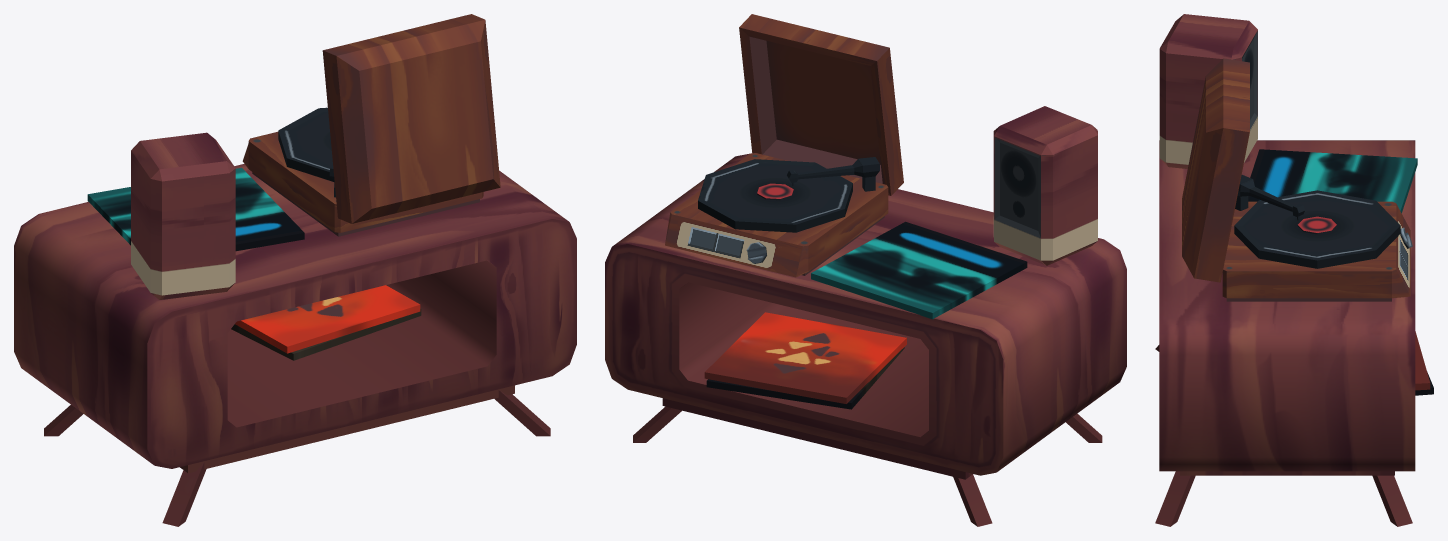
File: stylized_vinyl_player.glb
The picture shows the model from 3 angles, left to right: view 1: azimuth 30°, elevation 25°; view 2: azimuth 150°, elevation 25°; view 3: azimuth 270°, elevation 25°; orthographic projection. The views are drawn at different scales.
Parts seen in each view (by area): view 1: std_RecordPlayer_Table, std_RecordPlayer, std_RecordPlayer_speaker, std_record3, std_record_1, std_record_2; view 2: std_RecordPlayer_Table, std_RecordPlayer, std_RecordPlayer_speaker, std_record_1, std_record3, std_record_2; view 3: std_RecordPlayer_Table, std_RecordPlayer, std_RecordPlayer_speaker, std_record_1, std_record3.
Part boxes in pixels (x1,y1,x2,y2): std_RecordPlayer_Table: [14, 164, 576, 526]; std_RecordPlayer: [242, 14, 500, 236]; std_RecordPlayer_speaker: [131, 132, 235, 299]; std_record3: [235, 285, 420, 353]; std_record_1: [87, 167, 304, 251]; std_record_2: [231, 308, 421, 360]; std_RecordPlayer_Table: [605, 153, 1126, 526]; std_RecordPlayer: [665, 14, 903, 277]; std_RecordPlayer_speaker: [993, 106, 1097, 265]; std_record_1: [811, 221, 1027, 319]; std_record3: [704, 312, 906, 403]; std_record_2: [706, 347, 904, 409]; std_RecordPlayer_Table: [1155, 140, 1415, 526]; std_RecordPlayer: [1182, 58, 1412, 301]; std_RecordPlayer_speaker: [1159, 14, 1257, 168]; std_record_1: [1248, 149, 1417, 213]; std_record3: [1415, 331, 1430, 390].
Size of the model in its own units: 1.55 by 1.37 by 0.9059.
2 materials, 2 textured.
